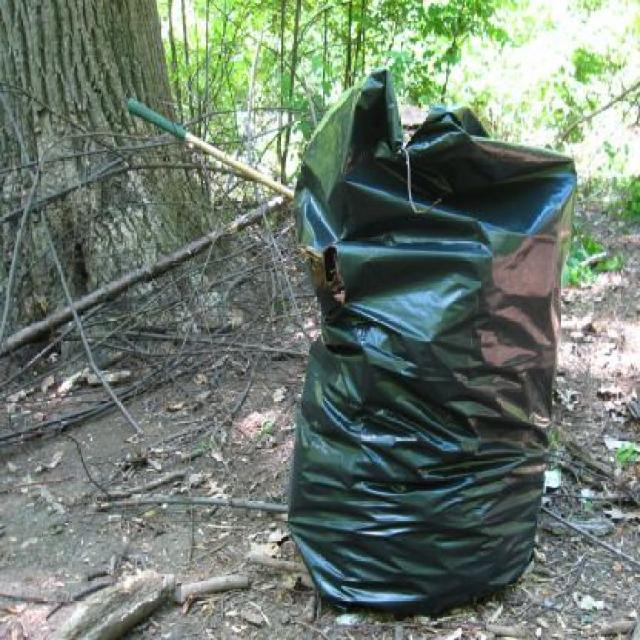garbage: (310, 103, 539, 596)
